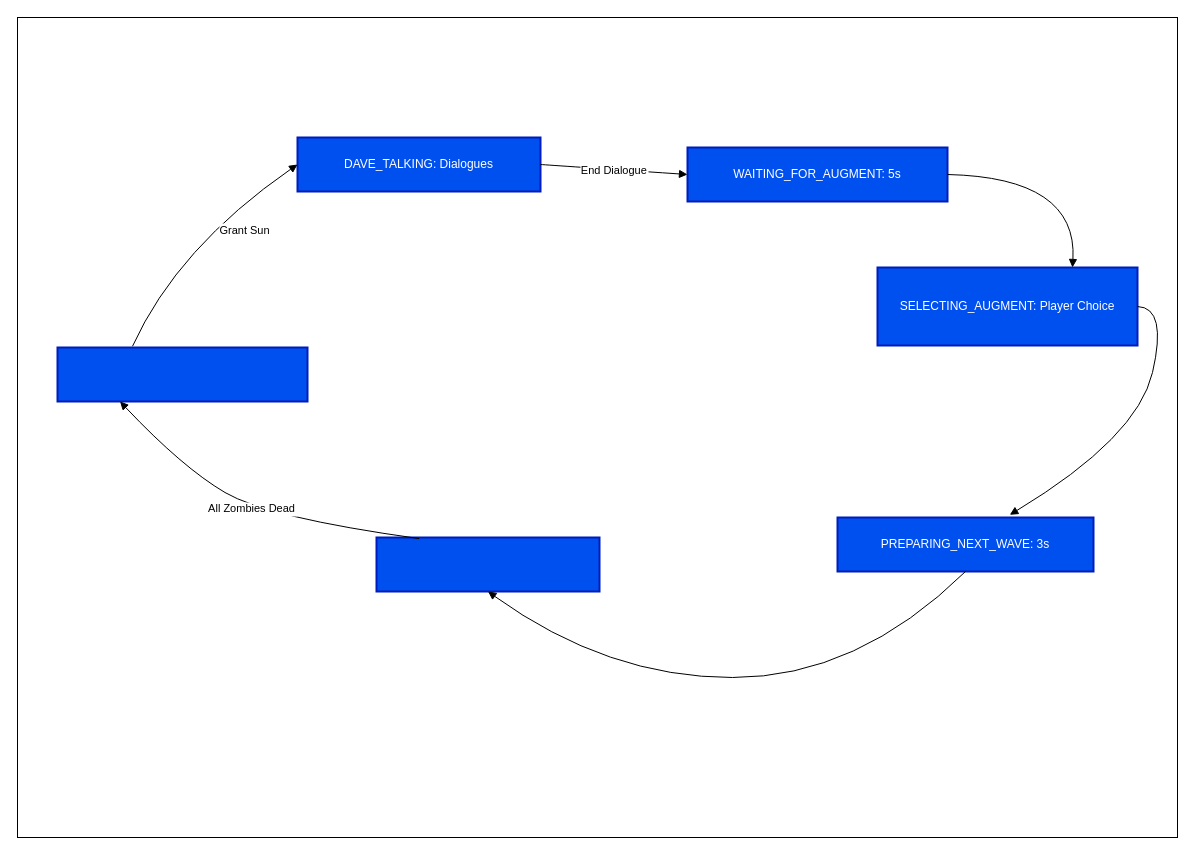
This 1195x855 diagram has some shape labels left out. The centre of each missing label's shape, as x and y in pixels:
"BATTLE: Fight Zombies" goes at (x=487, y=564).
"WAITING_FOR_REWARD: 3s" goes at (x=182, y=374).
